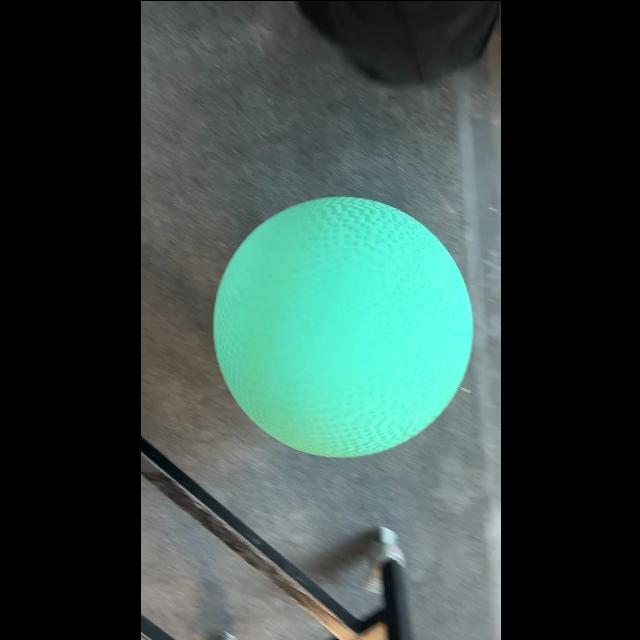ALGAE: (211, 194, 473, 458)
